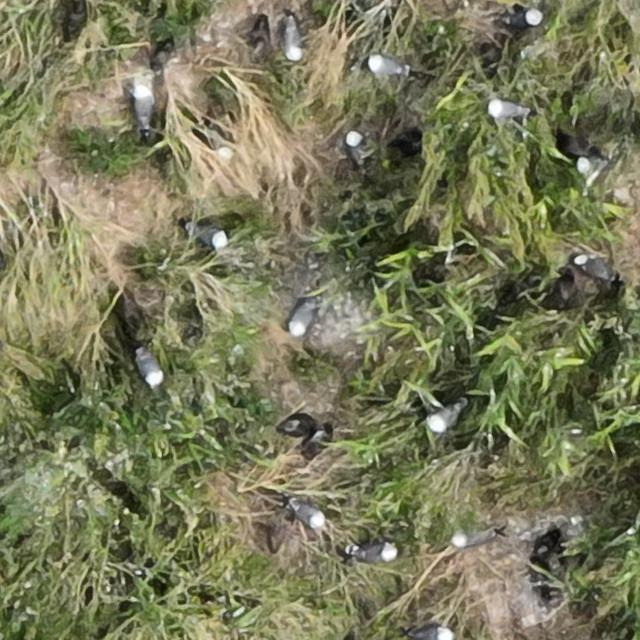umineko: (426, 403, 465, 433), (575, 256, 613, 281), (347, 130, 369, 169), (137, 352, 161, 387), (190, 226, 228, 248), (291, 502, 324, 527), (577, 154, 618, 174), (290, 302, 314, 336), (366, 56, 406, 76), (133, 84, 152, 125), (356, 544, 394, 563), (454, 530, 494, 548), (286, 22, 304, 61), (488, 99, 524, 118), (504, 9, 540, 27), (215, 121, 232, 159), (409, 626, 445, 640)
